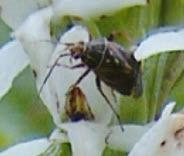plant_bugs: (21, 18, 167, 141)
